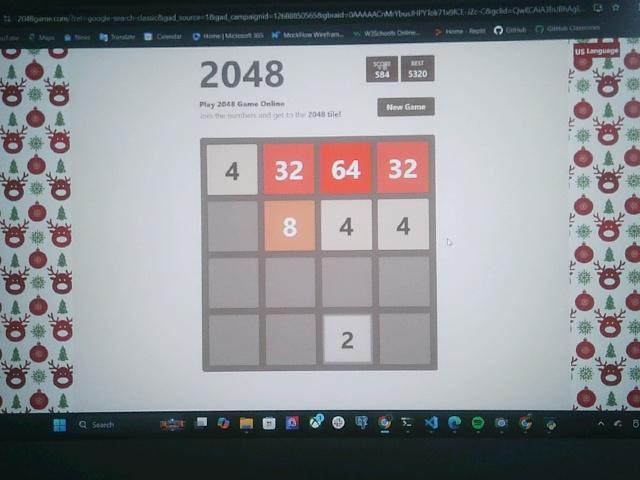board: (200, 137, 437, 371)
tile: (320, 142, 371, 194), (265, 142, 314, 195), (322, 200, 372, 251), (207, 144, 257, 194), (265, 201, 315, 251), (379, 199, 429, 249), (378, 142, 427, 193), (324, 313, 372, 363)
